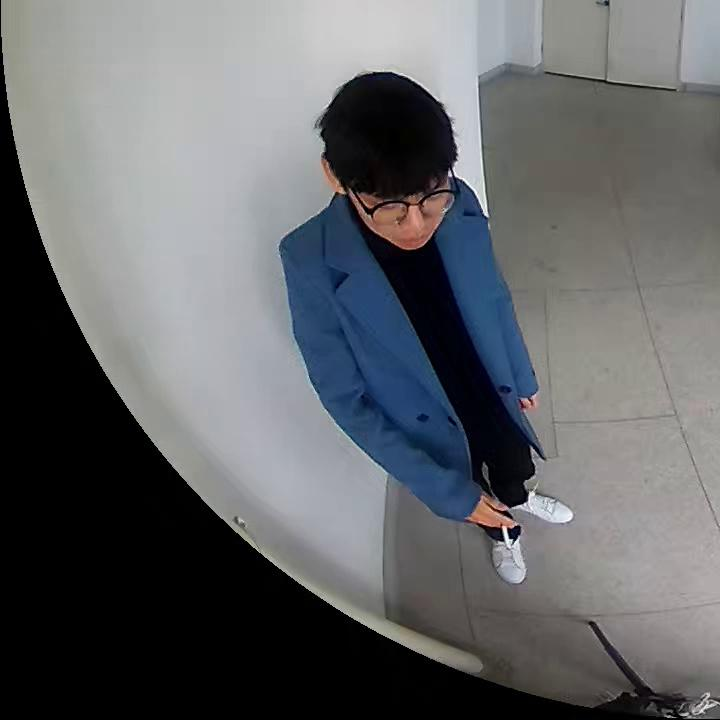handsmoke: (479, 498, 519, 552)
handwithoutsmoke: (520, 396, 539, 412)
mouthwithoutsmoke: (318, 72, 456, 250)
